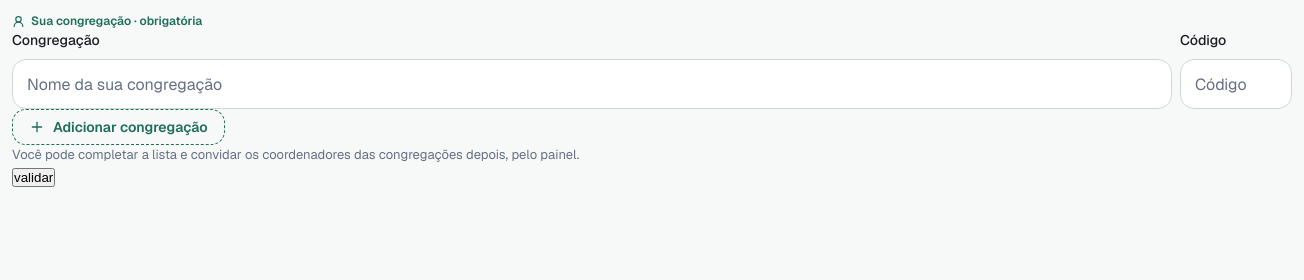
Test case: SignupStepCongregations › lista dinâmica › deve adicionar uma linha opcional
The image size is (1304, 280).
Click the button "Adicionar congregação" at (118, 127), box [12, 109, 225, 145]
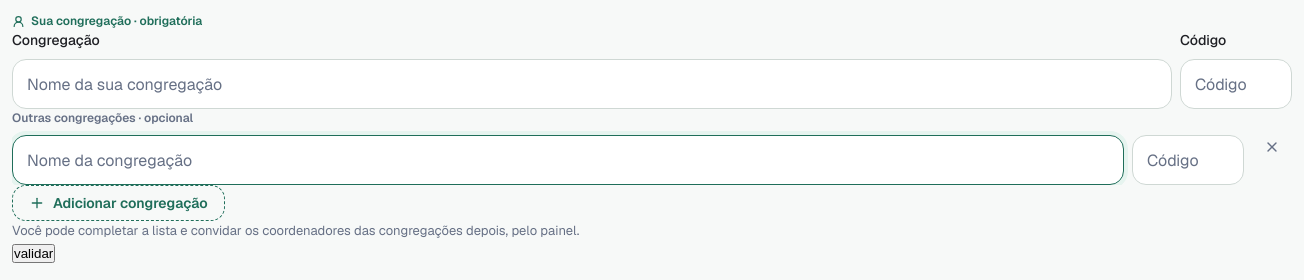
Expected: the text "Outras congregações · opcional" is shown, [12, 110, 193, 126]
Expected: the field named "Congregação 2" is shown, [27, 136, 1115, 184]
Expected: the button named "Remover congregação 2" is shown, [1252, 127, 1292, 167]
